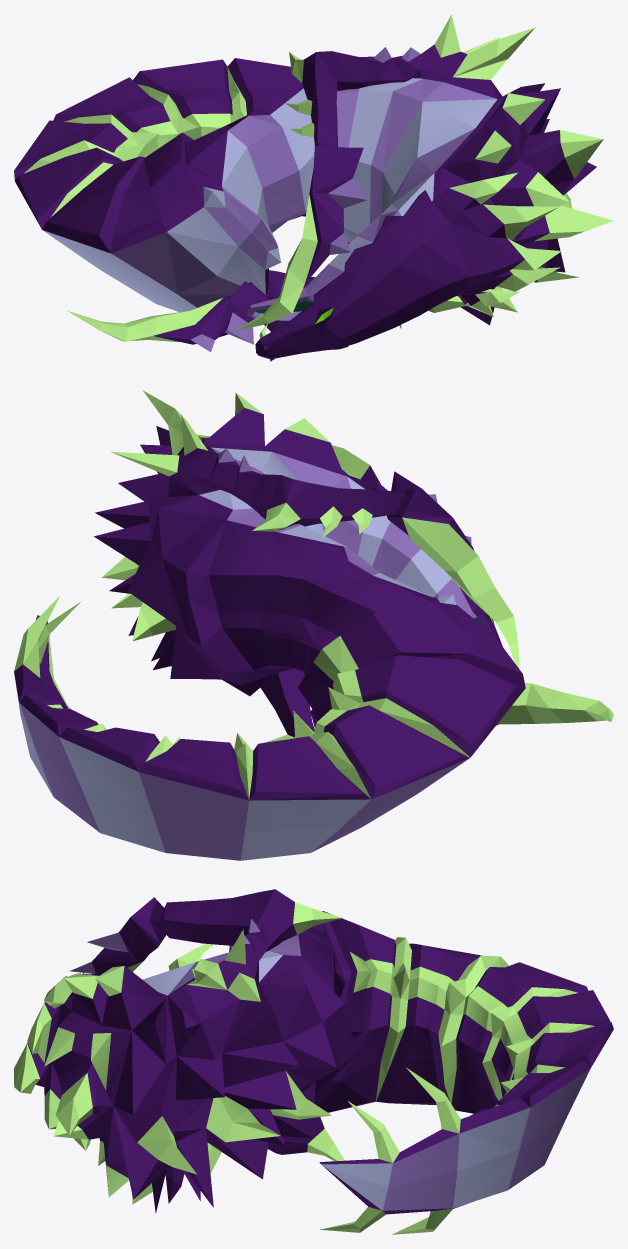
The picture shows the model from 3 angles, top to bottom: view 1: azimuth 30°, elevation 25°; view 2: azimuth 150°, elevation 25°; view 3: azimuth 270°, elevation 25°; orthographic projection. The views are drawn at different scales.
Visible parts, largest first — view 1: Alien_Serpent; view 2: Alien_Serpent; view 3: Alien_Serpent.
Boxes of the visible parts, bbox=[...] form: Alien_Serpent: bbox=[14, 14, 613, 361]; Alien_Serpent: bbox=[14, 390, 613, 860]; Alien_Serpent: bbox=[14, 889, 613, 1234].
Size of the model in its own units: 239 by 141 by 246.
1 material, 1 textured.
